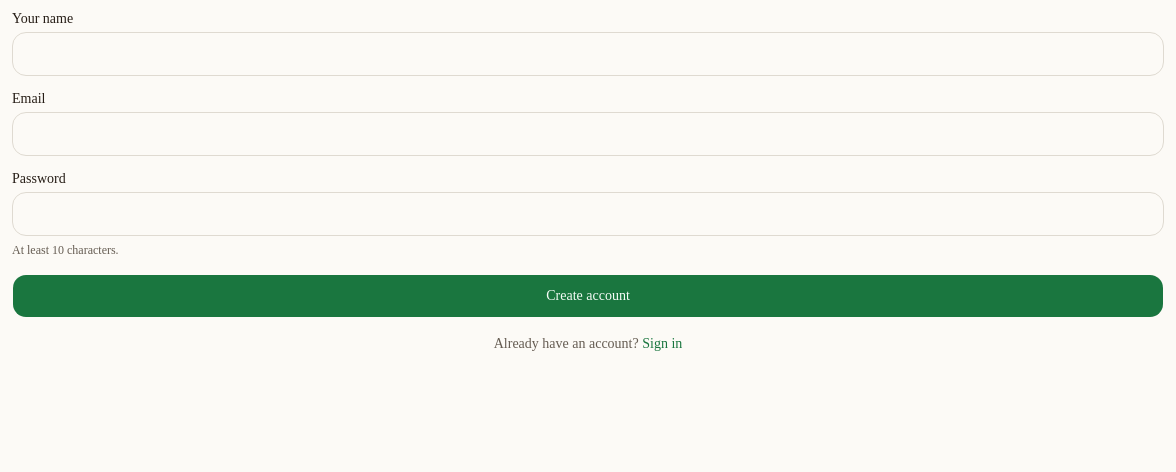
Test: RegisterForm › shows each field's problem next to that field and marks it invalid
Click the button "Create account": (588, 296) 12,274 -> 1164,318
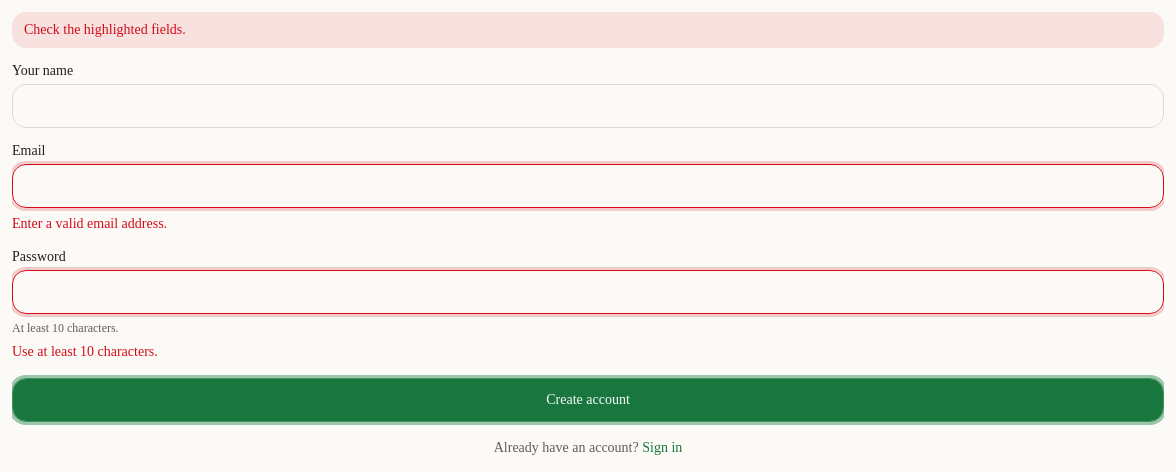
Expected: the message reads "Check the highlighted fields.", 24,22 -> 186,37
